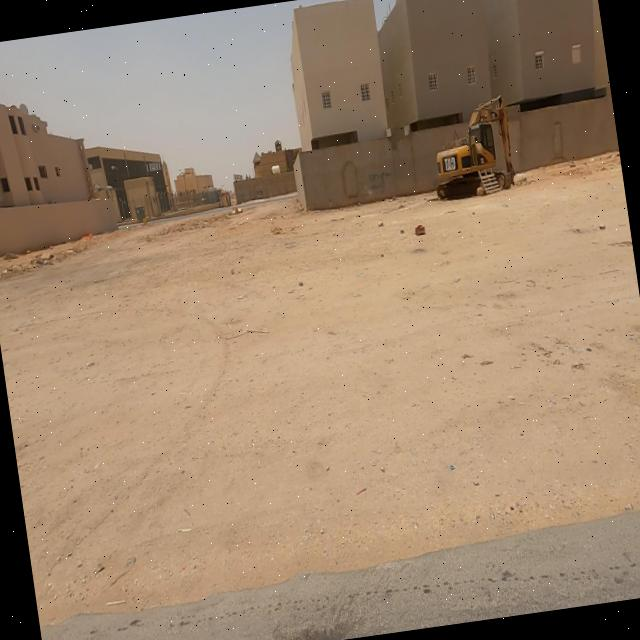Graffiti: (369, 170, 396, 194)
